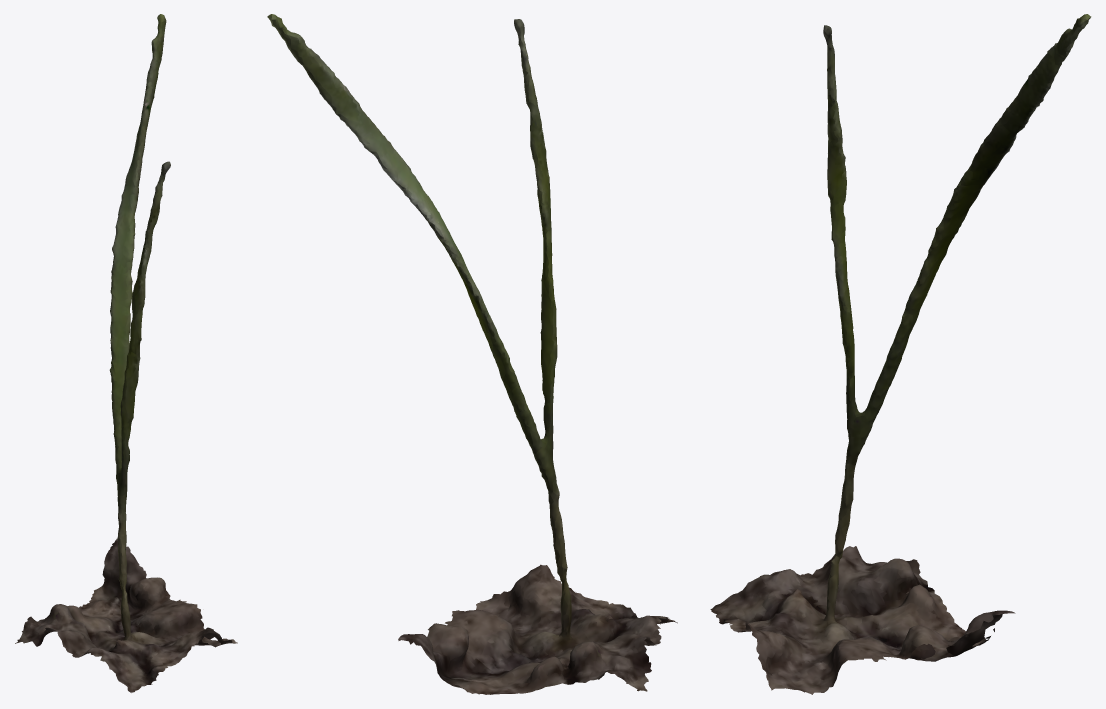
File: Day4.glb
3 views of the same model, side by side, from view 1: azimuth 30°, elevation 25°; view 2: azimuth 150°, elevation 25°; view 3: azimuth 270°, elevation 25° (orthographic). The views are drawn at different scales.
Visible parts, largest first — view 1: Day4; view 2: Day4; view 3: Day4.
Boxes of the visible parts, left/top/right/bottom form: Day4: left=15, top=14, right=237, bottom=692; Day4: left=267, top=14, right=677, bottom=694; Day4: left=710, top=14, right=1091, bottom=694.
Size of the model in its own units: 0.2774 by 0.6423 by 0.3134.
56 materials, 56 textured.
